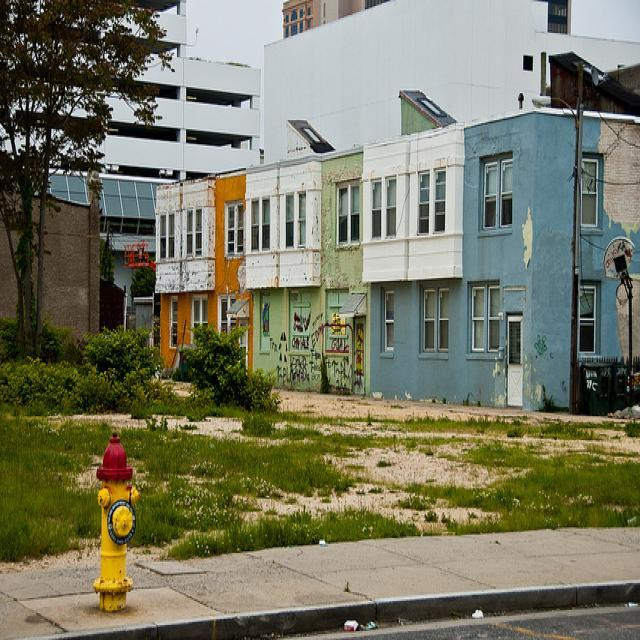fire_hydrant: (91, 430, 140, 614)
